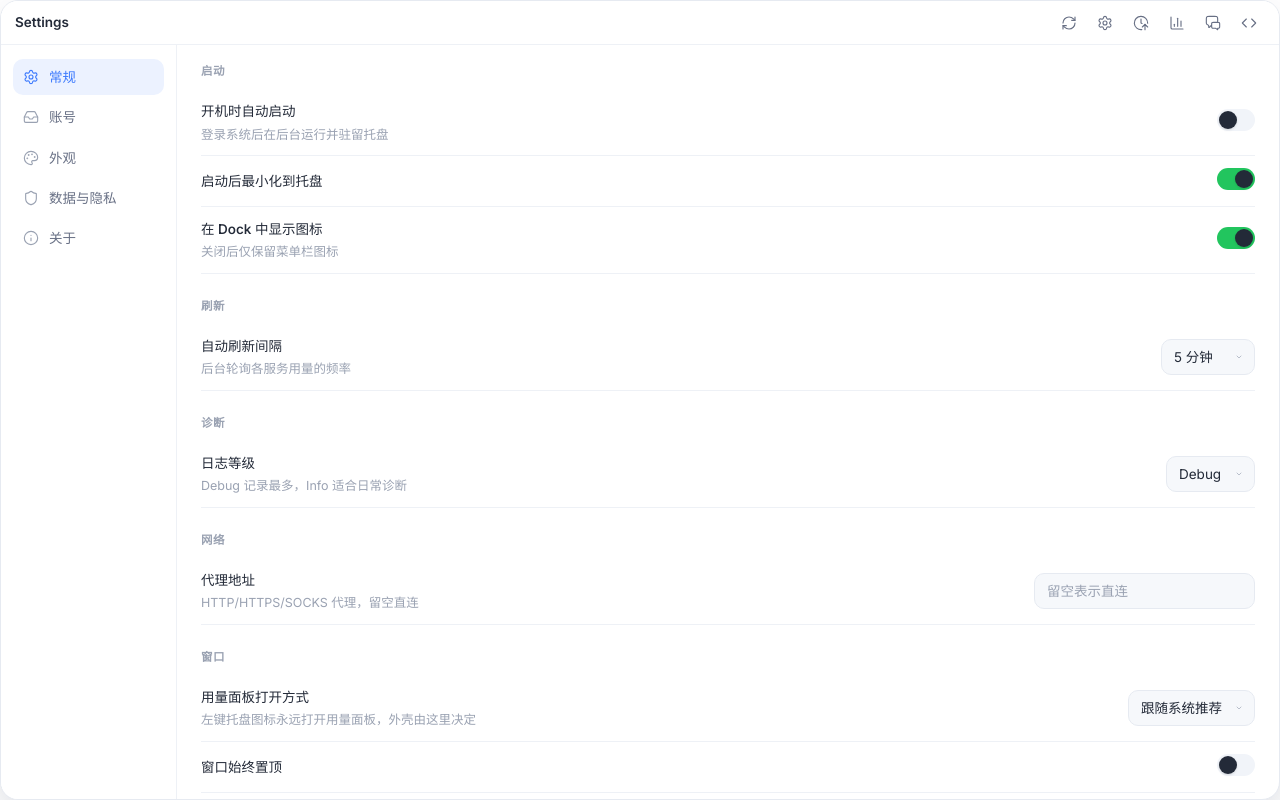
Scenario: SettingsView - DataSection (t490) › renders secret option checkbox and unified subtitle in web mode (AC-001)
The image size is (1280, 800).
Click the button with test id "settings-plugin-nav-data" at (88, 198), box [13,180,164,216]
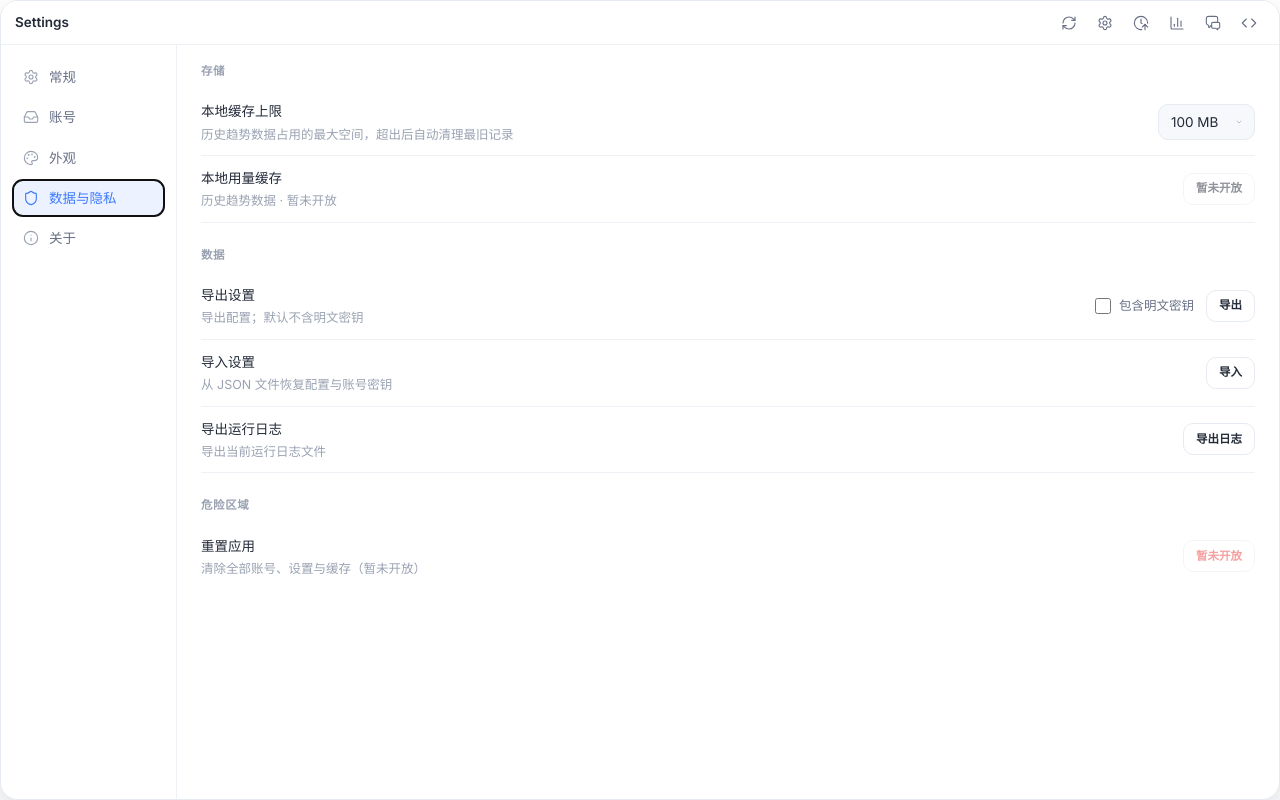
Result: the text "导出配置；默认不含明文密钥" is shown at [201,309,364,327]
Result: the checkbox labelled "包含明文密钥" is shown at [1095,298,1111,314]
